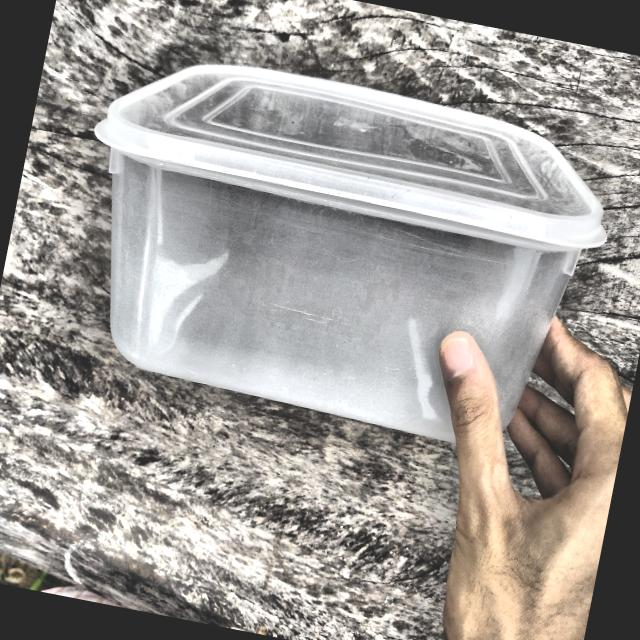plastic container: (73, 39, 626, 470)
